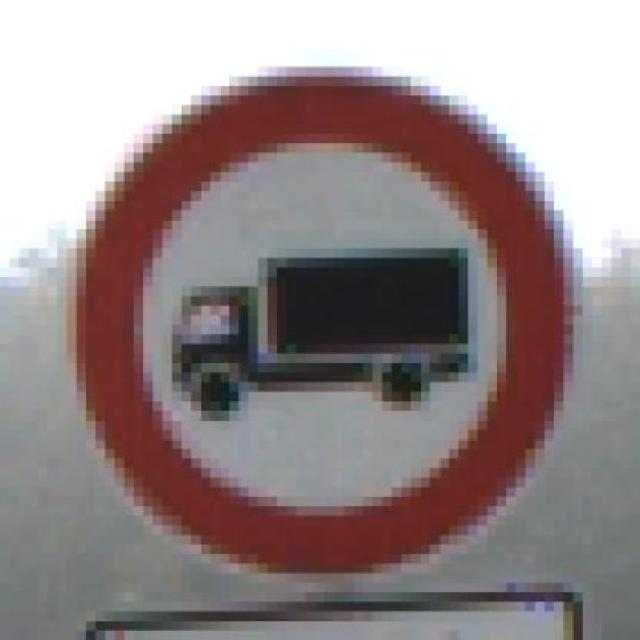Truck traffic is prohibited: (57, 48, 592, 592)
